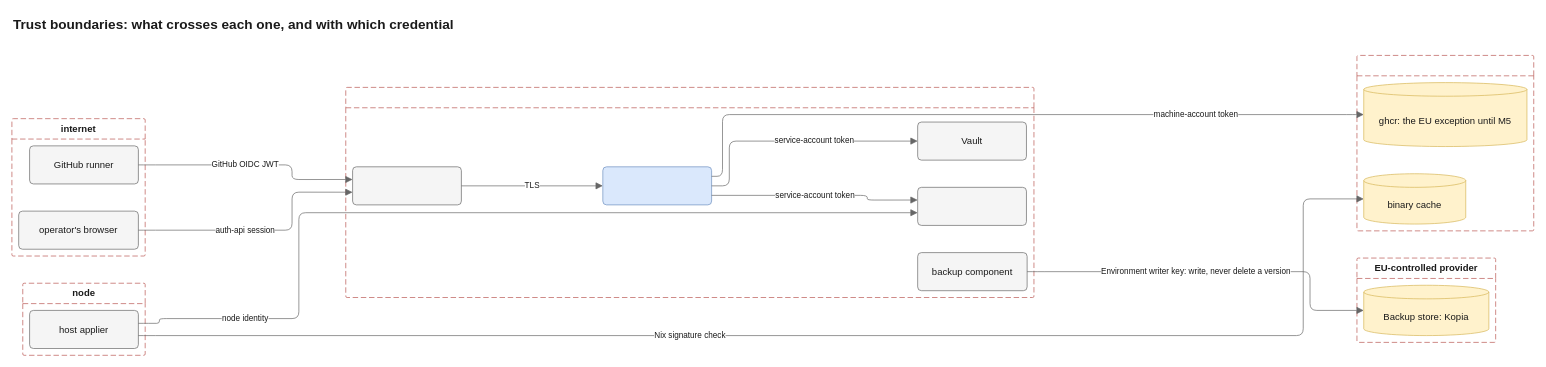
The diagram is 1546 pixels wide and 367 high, and some of its shapes have lost their labels. Here are the shapes that lost their labels. From the top down, the box of each, then its label:
(1356, 55, 1534, 231): outside the cluster
(352, 166, 461, 205): Traefik edge
(602, 166, 712, 205): Delivery
(345, 87, 1034, 298): cluster
(917, 187, 1026, 225): Kubernetes API
